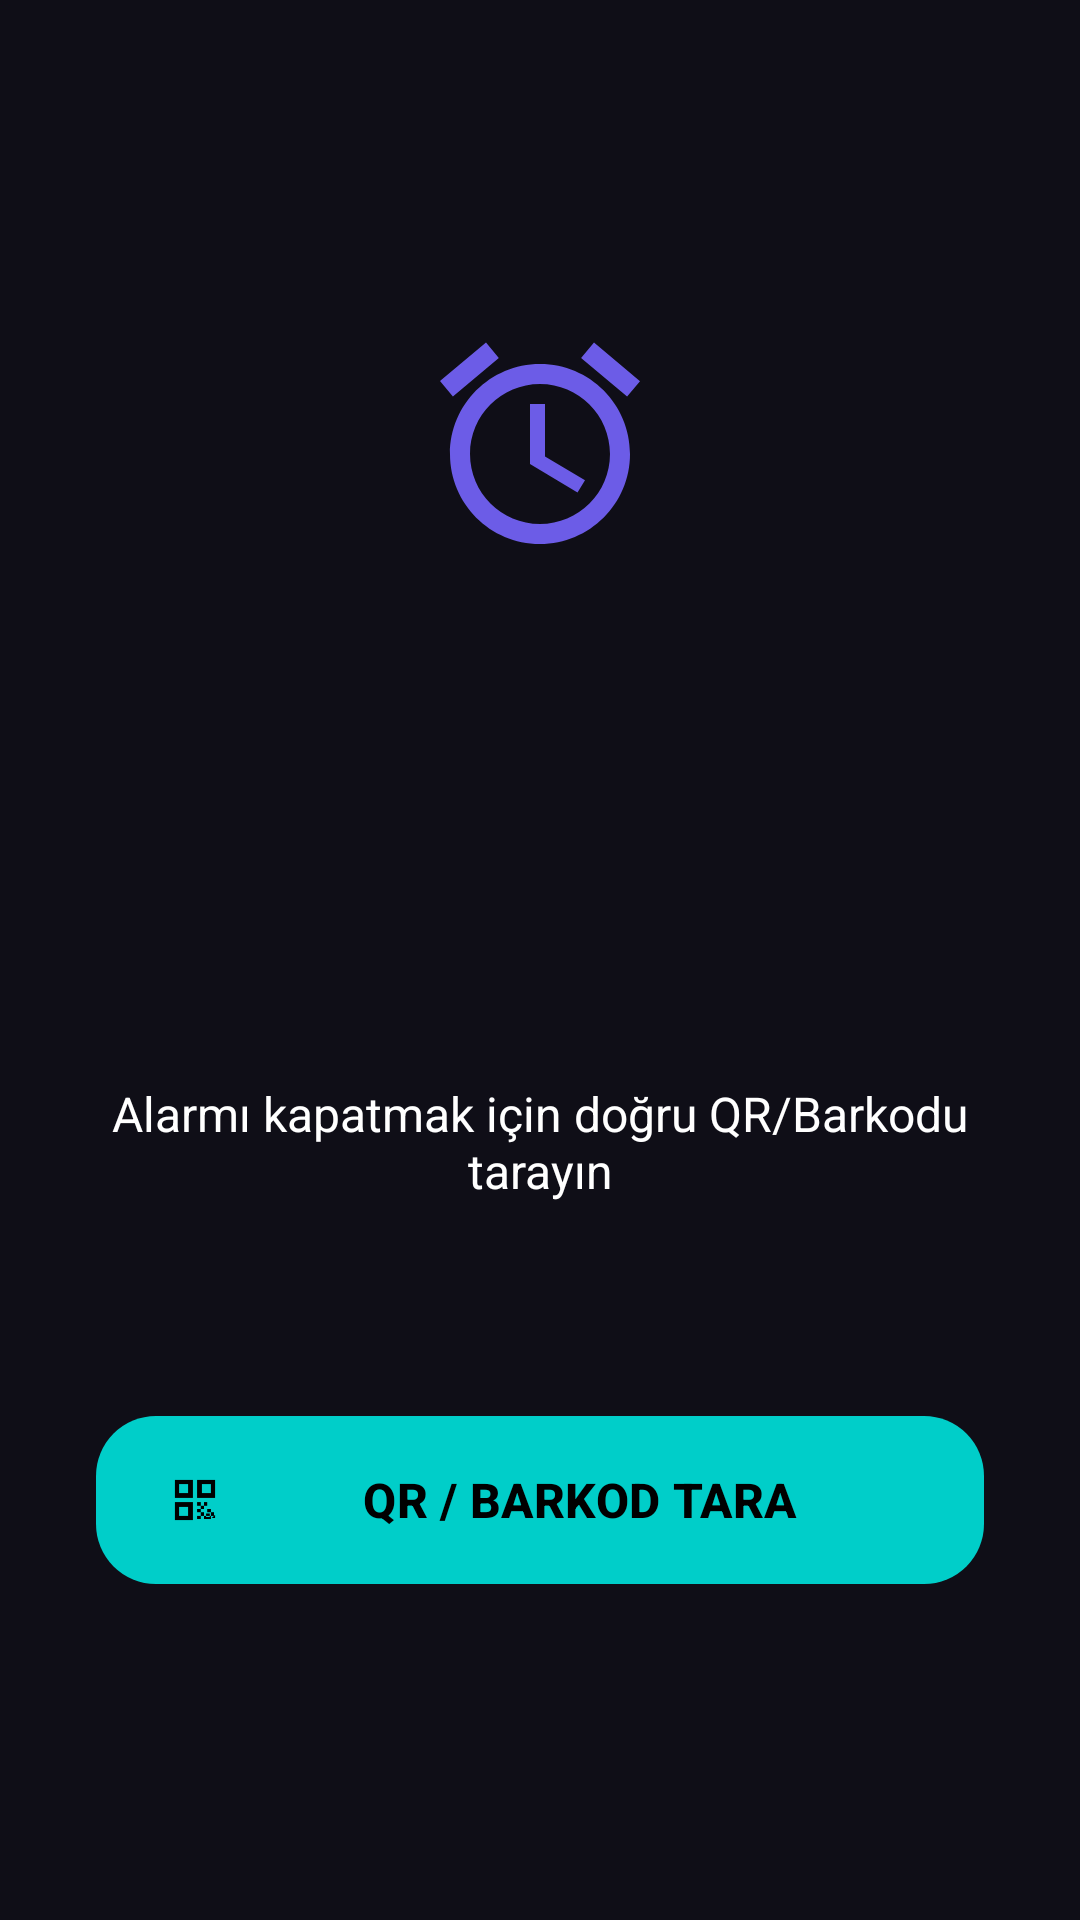

Icon bounding boxes for this 1080px×1920px phone screenshot, format (x1, y1, x2, y2):
alarm: (440, 342, 640, 544)
